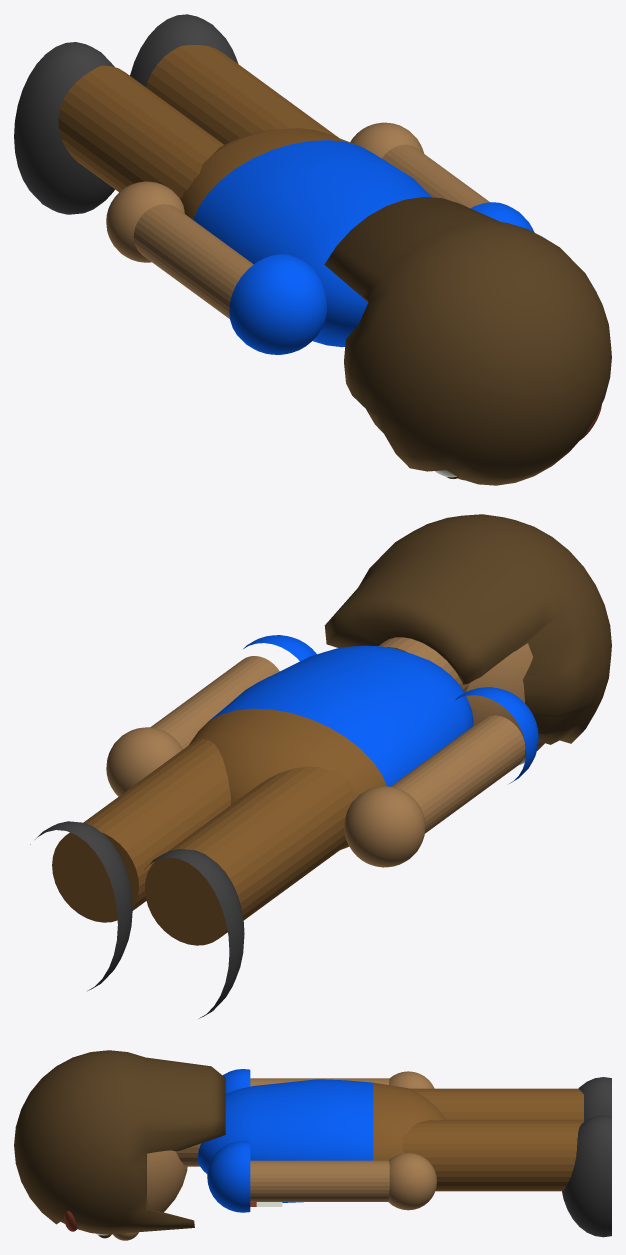
File: jarchi.glb
3 views of the same model, one above another, from view 1: azimuth 30°, elevation 25°; view 2: azimuth 150°, elevation 25°; view 3: azimuth 270°, elevation 25° (orthographic). The views are drawn at different scales.
Visible parts, largest first — view 1: Sphere.016, Sphere.009, Cylinder.010, Sphere.015, Cylinder.011, Sphere.012, Cylinder.013, Sphere.014, Sphere.013, Cylinder.012, Sphere.010, Sphere.011; view 2: Sphere.016, Sphere.009, Cylinder.010, Cylinder.011, Cylinder.013, Sphere.013, Cylinder.012, Sphere.010, Sphere.015, Sphere.014, Sphere.001, Sphere.012 (+2 smaller); view 3: Sphere.016, Sphere.009, Cylinder.011, Cylinder.012, Cylinder.010, Sphere.014, Sphere.011, Sphere.010, Sphere.001, Sphere.015, Cylinder.013, Sphere.013 (+2 smaller).
Boxes of the visible parts, left/top/right/bottom form: Sphere.016: left=324, top=197, right=611, bottom=485; Sphere.009: left=181, top=128, right=430, bottom=347; Cylinder.010: left=58, top=65, right=223, bottom=199; Sphere.015: left=14, top=42, right=114, bottom=214; Cylinder.011: left=146, top=45, right=338, bottom=144; Sphere.012: left=229, top=254, right=326, bottom=354; Cylinder.013: left=133, top=204, right=253, bottom=318; Sphere.014: left=130, top=14, right=238, bottom=86; Sphere.013: left=106, top=181, right=184, bottom=262; Cylinder.012: left=382, top=144, right=489, bottom=208; Sphere.010: left=350, top=122, right=424, bottom=158; Sphere.011: left=471, top=202, right=534, bottom=232; Sphere.016: left=324, top=514, right=611, bottom=744; Sphere.009: left=189, top=645, right=473, bottom=849; Cylinder.010: left=145, top=766, right=355, bottom=945; Cylinder.011: left=52, top=738, right=230, bottom=922; Cylinder.013: left=391, top=715, right=525, bottom=833; Sphere.013: left=344, top=786, right=425, bottom=867; Cylinder.012: left=150, top=656, right=279, bottom=749; Sphere.010: left=106, top=727, right=182, bottom=796; Sphere.015: left=144, top=849, right=244, bottom=1018; Sphere.014: left=30, top=821, right=132, bottom=990; Sphere.001: left=466, top=643, right=544, bottom=761; Sphere.012: left=455, top=687, right=538, bottom=783; Sphere.016: left=14, top=1050, right=225, bottom=1234; Sphere.009: left=197, top=1079, right=445, bottom=1202; Cylinder.011: left=402, top=1120, right=583, bottom=1191; Cylinder.012: left=250, top=1160, right=389, bottom=1201; Cylinder.010: left=410, top=1088, right=583, bottom=1120; Sphere.014: left=562, top=1115, right=611, bottom=1237; Sphere.011: left=207, top=1141, right=250, bottom=1212; Sphere.010: left=388, top=1152, right=436, bottom=1210; Sphere.001: left=147, top=1150, right=187, bottom=1212; Sphere.015: left=578, top=1077, right=611, bottom=1121; Cylinder.013: left=250, top=1078, right=389, bottom=1086; Sphere.013: left=389, top=1071, right=434, bottom=1088.
Bounding box in the file's own units: 0.6751 × 0.5332 × 1.6.
